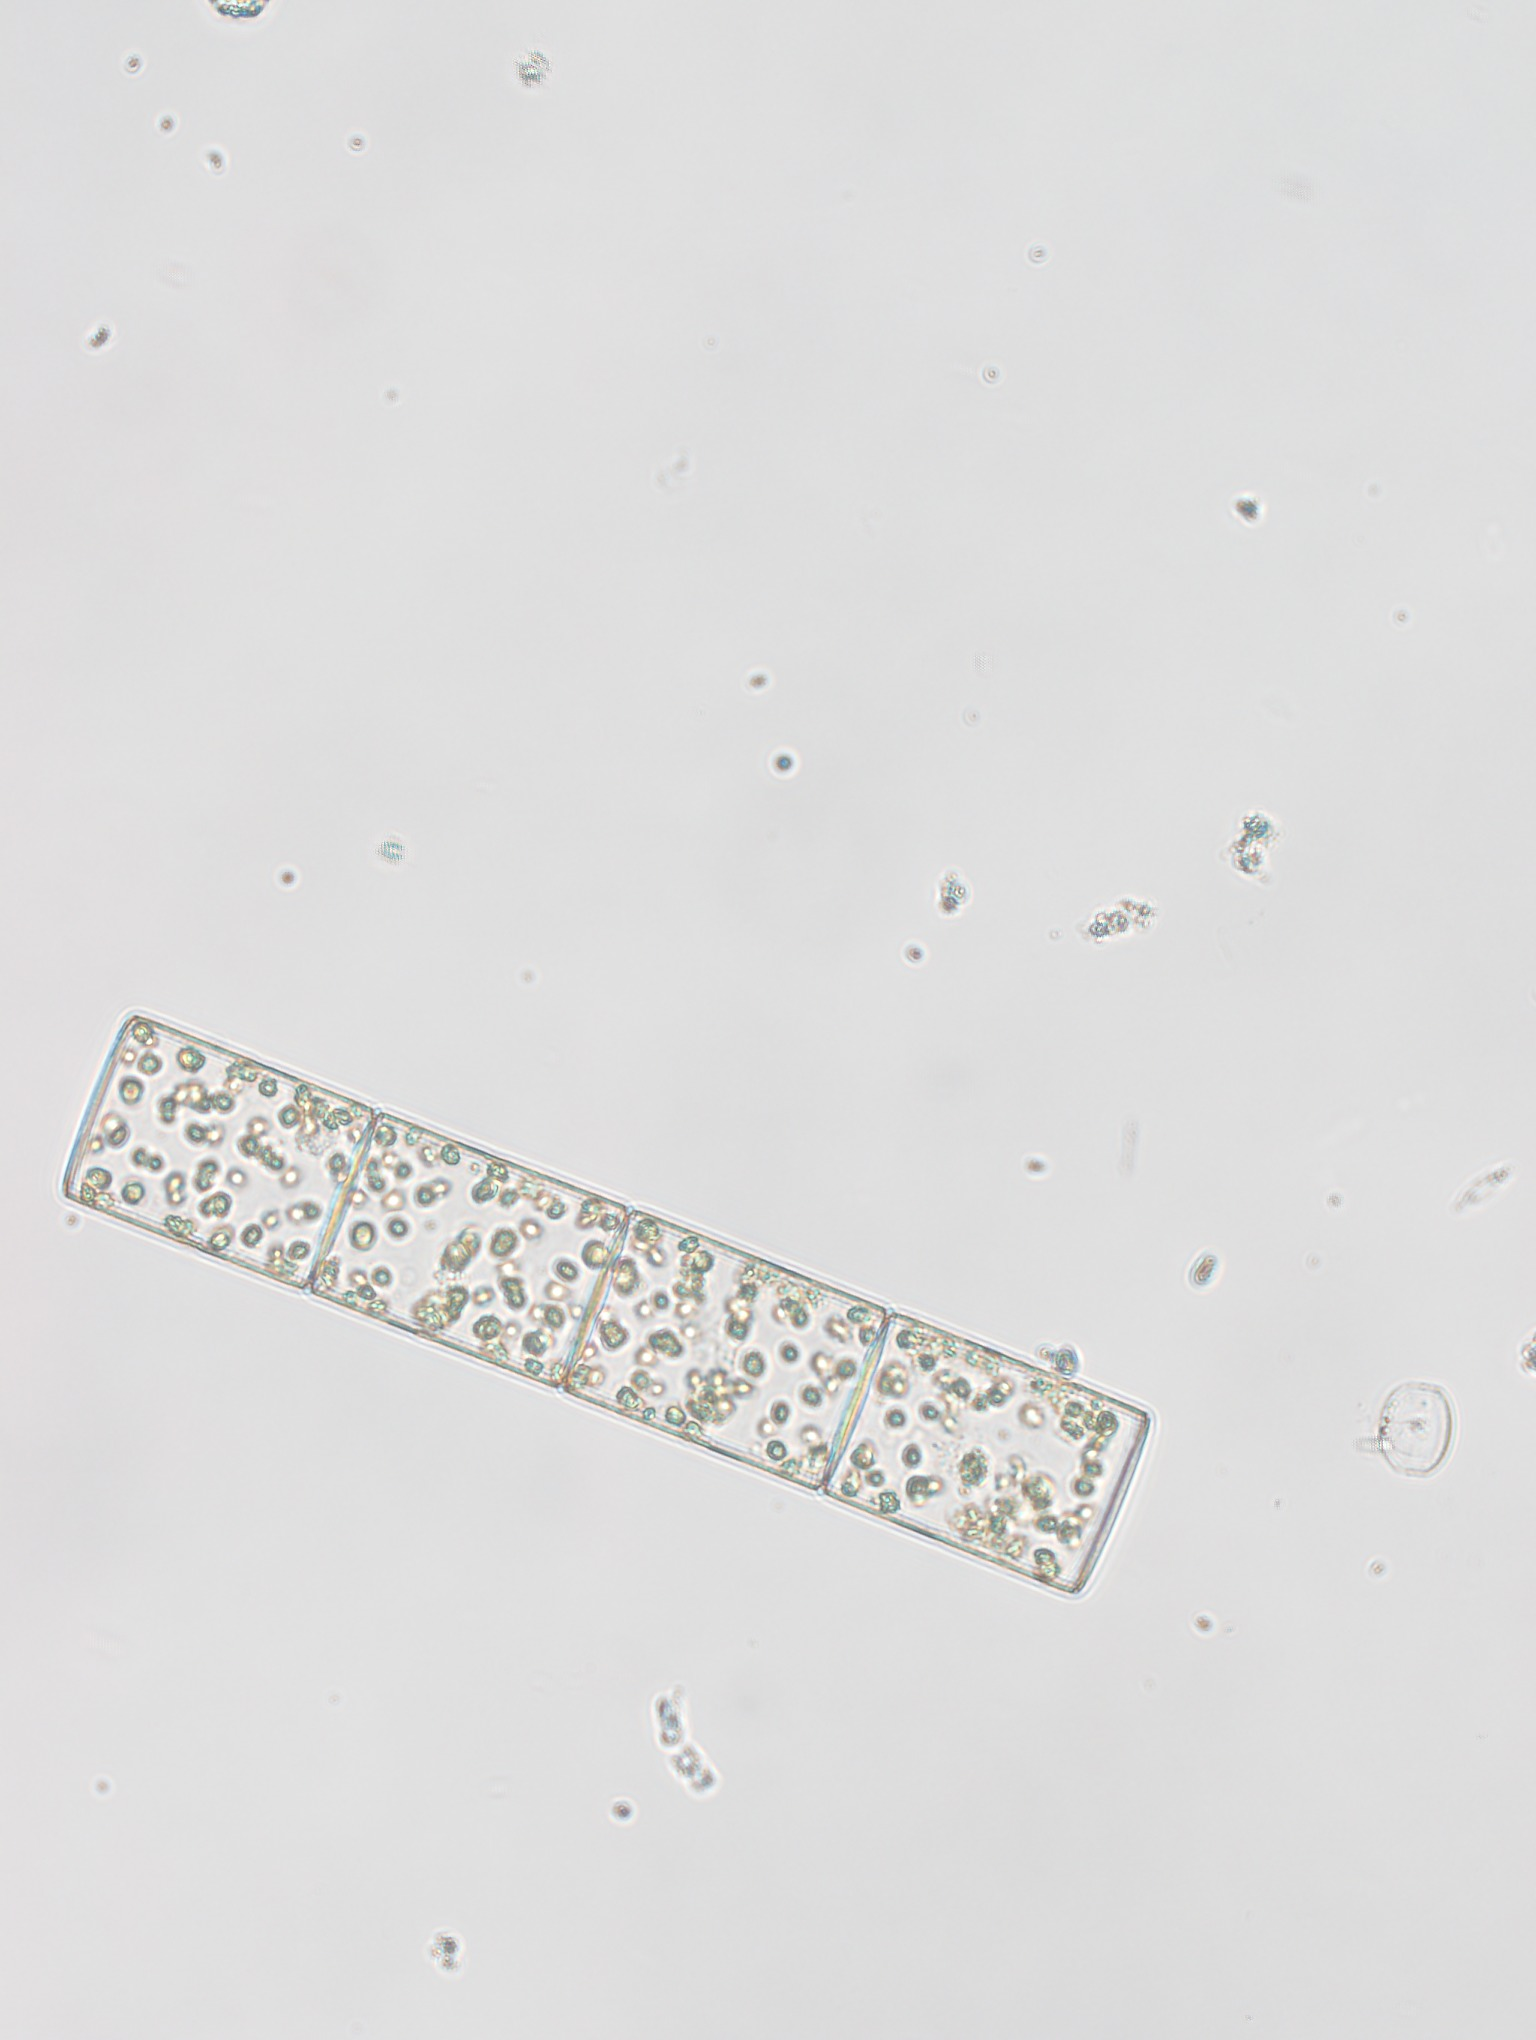guinardia flaccida: (55, 979, 1155, 1635)
